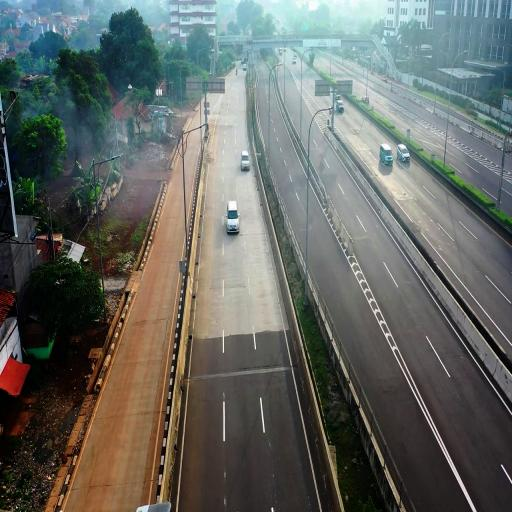vehicle: (225, 201, 239, 234), (379, 146, 394, 172), (396, 145, 410, 166), (240, 151, 250, 173)
